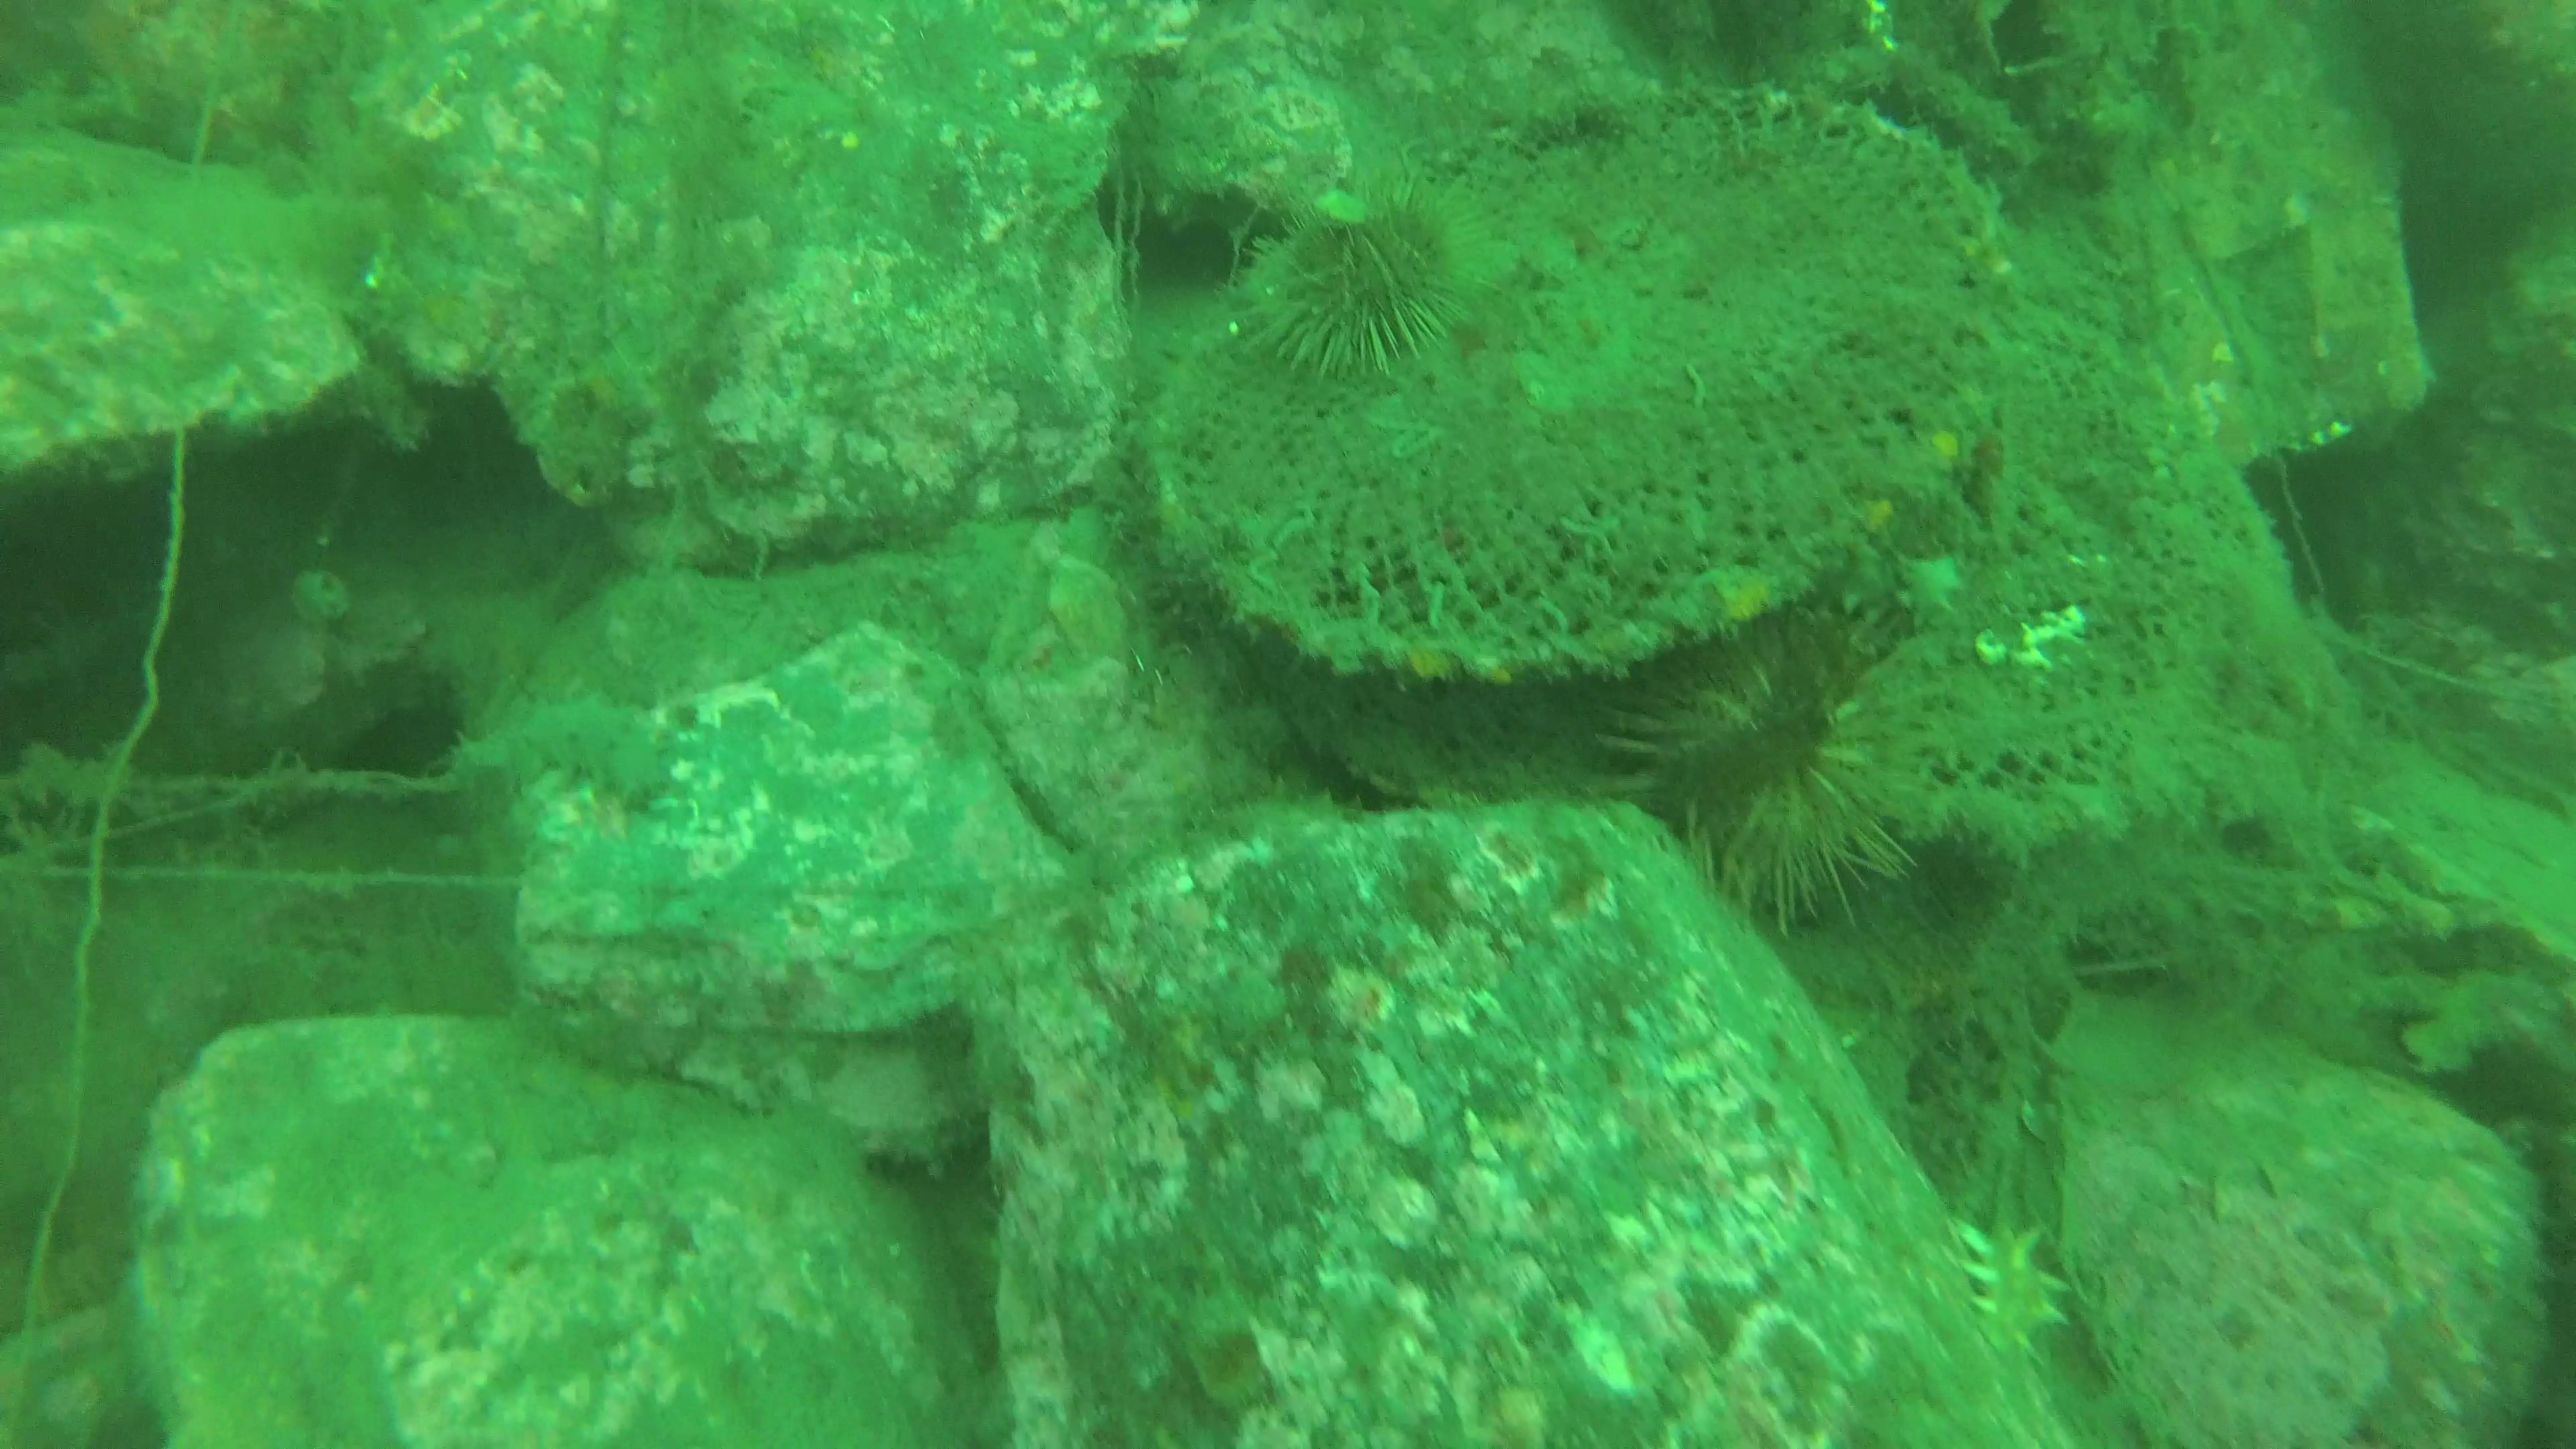echinus: (1598, 616, 1927, 936), (1238, 184, 1488, 384)
holothurian: (1102, 780, 1362, 902), (441, 699, 665, 807), (1953, 1217, 2072, 1369)
